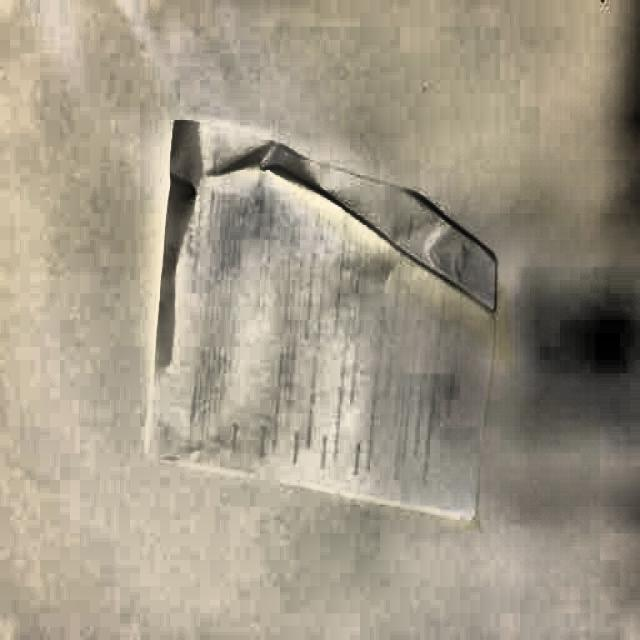paper: (160, 113, 498, 526)
